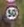limite 50: (2, 4, 20, 21)
